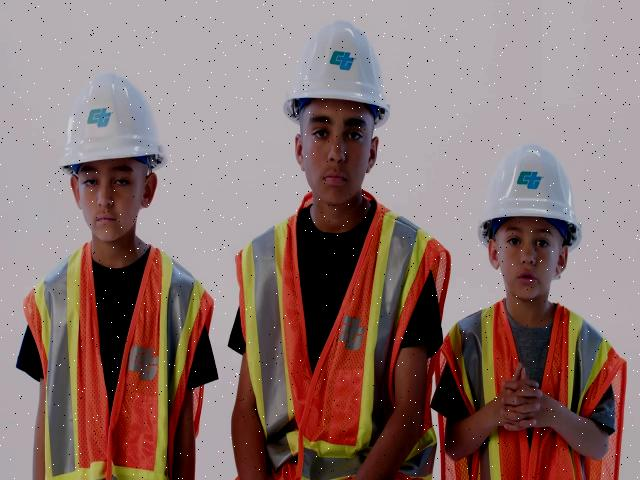Helmet: (56, 67, 174, 194), (278, 13, 393, 136), (472, 140, 589, 254)
